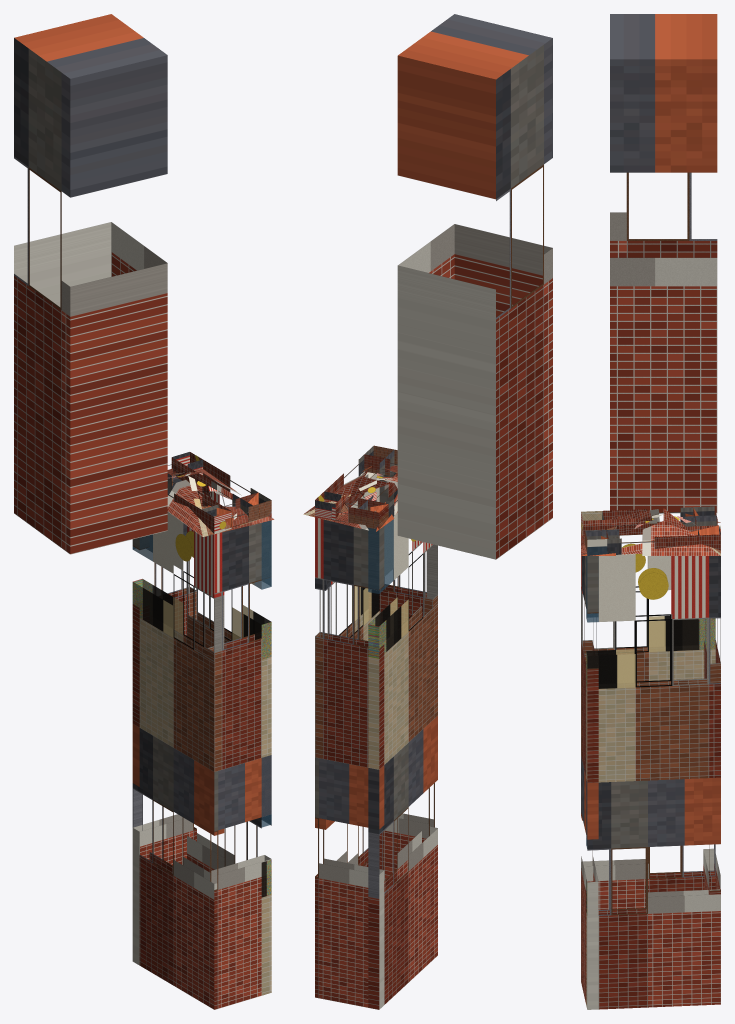
The picture shows the model from 3 angles, left to right: view 1: azimuth 30°, elevation 25°; view 2: azimuth 150°, elevation 25°; view 3: azimuth 270°, elevation 25°; orthographic projection. The views are drawn at different scales.
Visible parts, largest first — view 1: 238625199__chimney_0_xb, 238625199__wall_0_xb, 238625199__wall_1_xb, 238625199__wall_2_xb, 238625199__wall_3_xb, 238625199__wall_2_xf, 238625199__wall_0_xf, 238625199__cornice_2, 238625199_roof_left_xb, 238625199__cornice_1, 238625199__cornice_0, 238625199_roof_front_xb; view 2: 238625199__chimney_0_xb, 238625199__wall_0_xb, 238625199__wall_3_xb, 238625199__wall_1_xb, 238625199__wall_0_xf, 238625199__wall_2_xb, 238625199__cornice_3, 238625199__cornice_2, 238625199__cornice_1, 238625199_roof_right_xb, 238625199_roof_back_xb, 238625199__wall_2_xf; view 3: 238625199__chimney_0_xb, 238625199__wall_2_xb, 238625199__wall_0_xb, 238625199__wall_1_xb, 238625199__cornice_2, 238625199__wall_0_xf, 238625199__wall_2_xf, 238625199__cornice_0, 238625199_roof_right_xb, 238625199__wall_3_xb, 238625199__cornice_1, 238625199_roof_left_xb.
Boxes of the visible parts, x1,y1,x2,y2 form: 238625199__chimney_0_xb: (14,14,167,554); 238625199__wall_0_xb: (132,512,224,1009); 238625199__wall_1_xb: (207,521,271,1009); 238625199__wall_2_xb: (186,491,271,995); 238625199__wall_3_xb: (132,477,196,965); 238625199__wall_2_xf: (232,521,271,896); 238625199__wall_0_xf: (133,535,182,636); 238625199__cornice_2: (171,452,271,517); 238625199_roof_left_xb: (167,472,202,536); 238625199__cornice_1: (202,492,271,534); 238625199__cornice_0: (167,473,232,533); 238625199_roof_front_xb: (188,476,274,536); 238625199__chimney_0_xb: (397,14,552,559); 238625199__wall_0_xb: (368,502,437,1009); 238625199__wall_3_xb: (315,517,384,1009); 238625199__wall_1_xb: (369,471,437,880); 238625199__wall_0_xf: (368,519,408,658); 238625199__wall_2_xb: (315,471,383,866); 238625199__cornice_3: (315,491,388,528); 238625199__cornice_2: (315,446,394,520); 238625199__cornice_1: (364,445,397,476); 238625199_roof_right_xb: (304,466,390,513); 238625199_roof_back_xb: (303,480,376,530); 238625199__wall_2_xf: (355,586,378,624); 238625199__chimney_0_xb: (610,14,717,513); 238625199__wall_2_xb: (586,553,720,1009); 238625199__wall_0_xb: (581,543,715,909); 238625199__wall_1_xb: (581,553,598,1009); 238625199__cornice_2: (585,525,720,555); 238625199__wall_0_xf: (649,616,715,651); 238625199__wall_2_xf: (586,556,635,845); 238625199__cornice_0: (581,506,716,536); 238625199_roof_right_xb: (582,508,720,555); 238625199__wall_3_xb: (703,618,720,894); 238625199__cornice_1: (581,511,608,555); 238625199_roof_left_xb: (609,509,720,522).
Bounding box in the file's own units: 0.2916 × 1.4 × 0.1956.
1 material, 1 textured.
